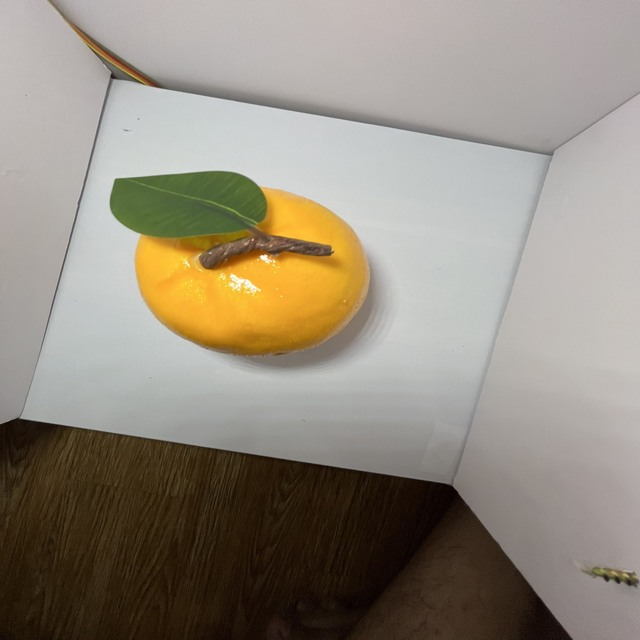Cam vang: (135, 177, 372, 362)
